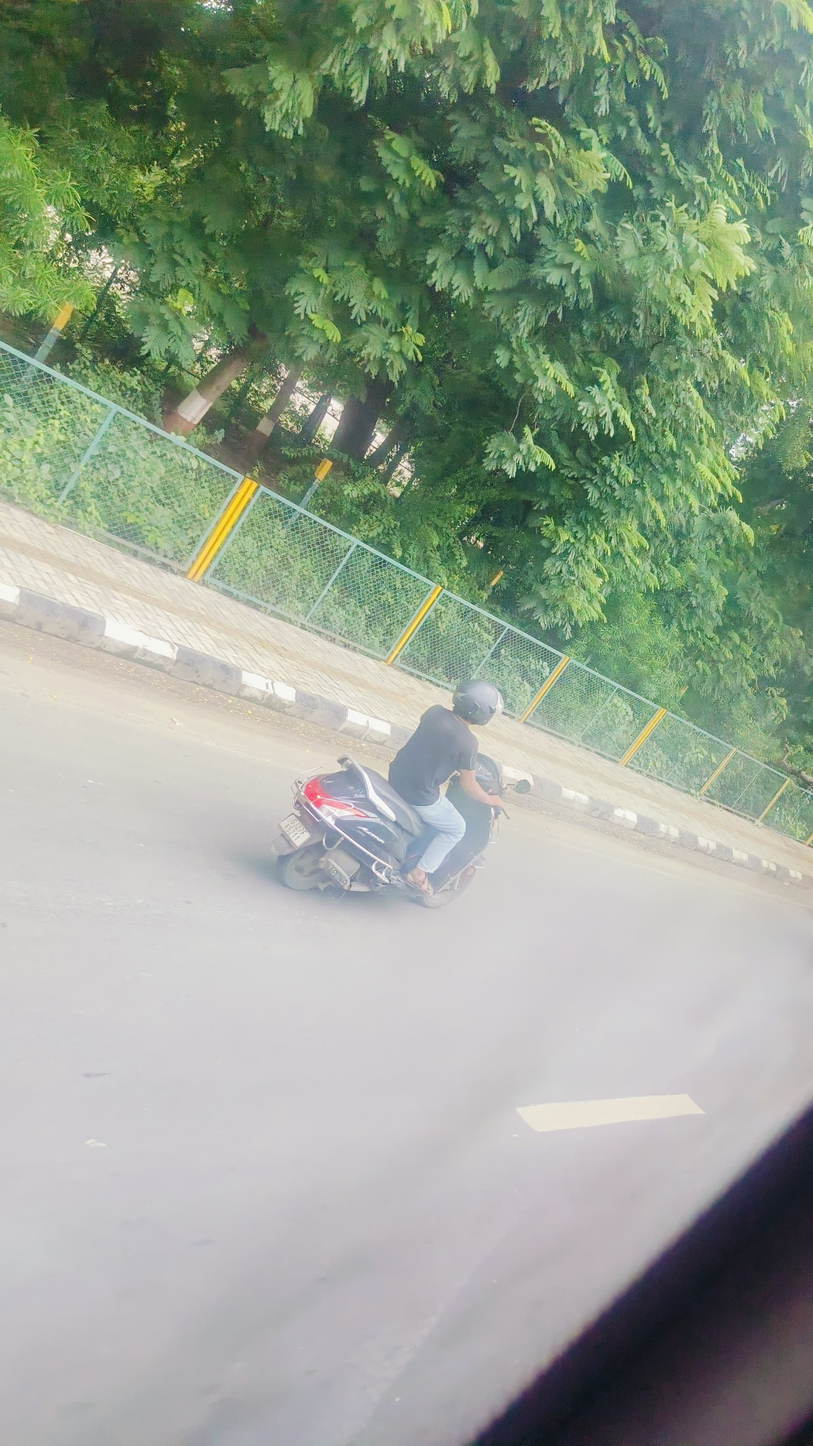BikeWithRider: (258, 670, 540, 924)
Helmet: (444, 671, 512, 733)
